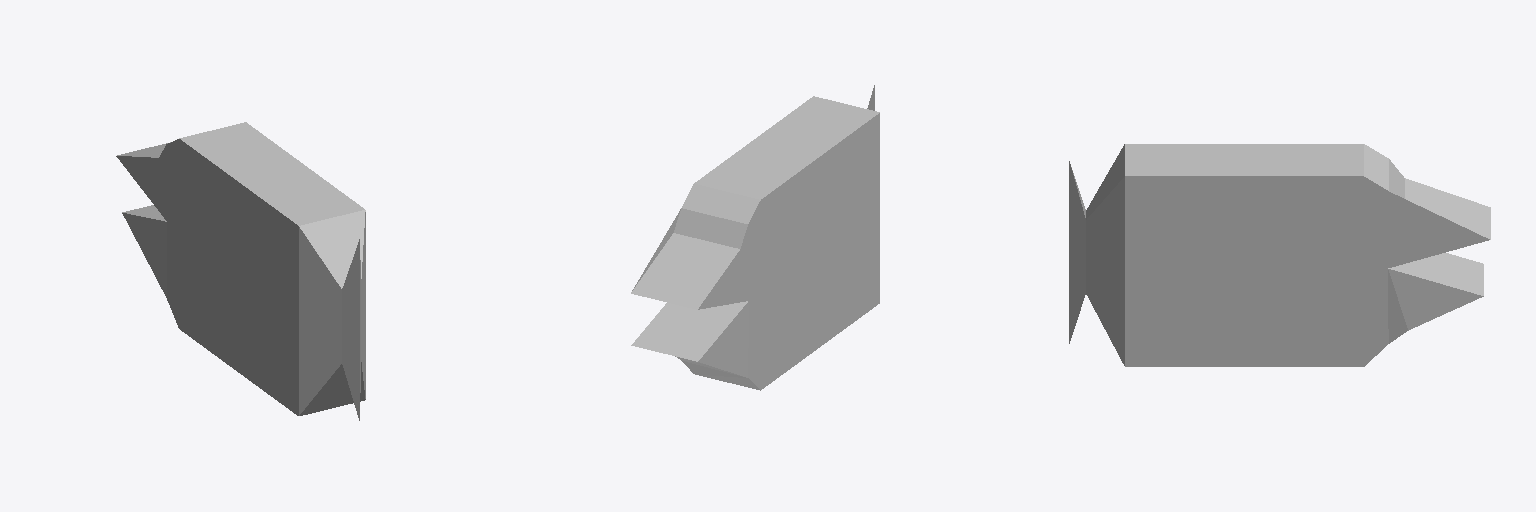
The model's file is ankou.obj.
3 renders of one model, left to right at view 1: azimuth 30°, elevation 25°; view 2: azimuth 150°, elevation 25°; view 3: azimuth 270°, elevation 25°, orthographic.
Visible parts, largest first — view 1: Cube; view 2: Cube; view 3: Cube.
Boxes of the visible parts, x1=… form: Cube: x1=116, y1=122, x2=365, y2=420; Cube: x1=631, y1=85, x2=879, y2=390; Cube: x1=1069, y1=144, x2=1490, y2=366.
Size of the model in its own units: 0.5209 by 1.36 by 2.73.